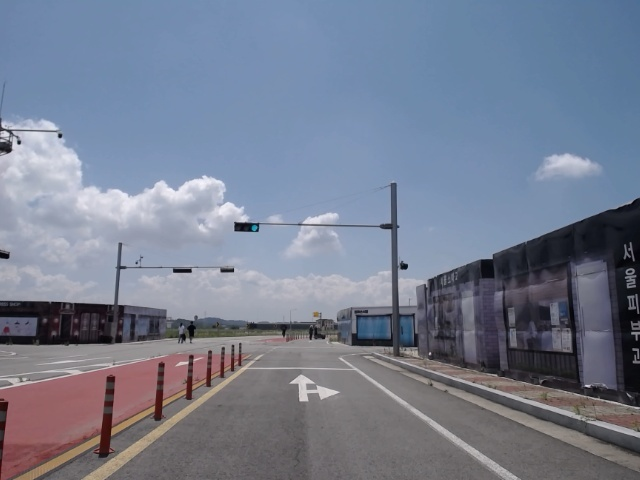green_3: (234, 222, 260, 233)
